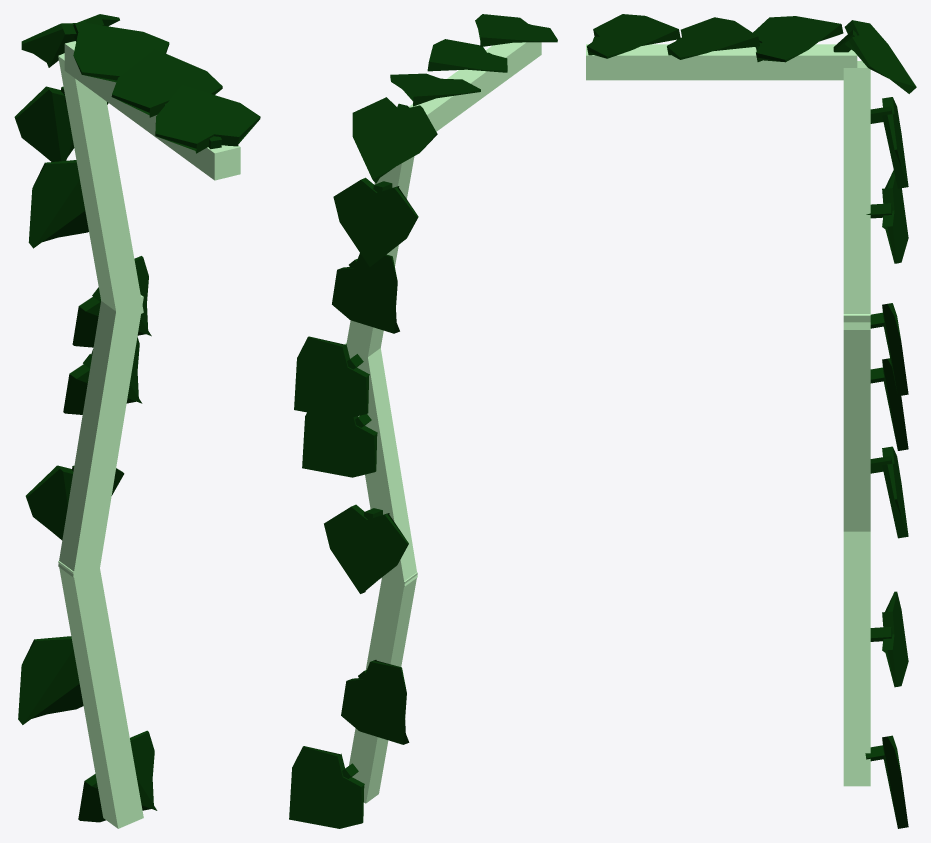
Rendered from VineLeaf.glb.
3 renders of one model, left to right at view 1: azimuth 30°, elevation 25°; view 2: azimuth 150°, elevation 25°; view 3: azimuth 270°, elevation 25°, orthographic. The views are drawn at different scales.
Visible parts, largest first — view 1: Cube, Cube.001, Cube.010, Cube.002, Cube.003, Cube.004, Cube.006, Cube.009, Cube.011, Cube.007, Cube.005, Cube.008; view 2: Cube, Cube.011, Cube.007, Cube.006, Cube.009, Cube.005, Cube.010, Cube.008, Cube.002, Cube.003, Cube.001, Cube.004; view 3: Cube, Cube.004, Cube.001, Cube.003, Cube.005, Cube.010, Cube.002, Cube.006, Cube.009, Cube.011, Cube.007, Cube.008.
Boxes of the visible parts, left/top/right/bottom form: Cube: left=58, top=41, right=240, bottom=828; Cube.001: left=155, top=85, right=260, bottom=153; Cube.010: left=18, top=636, right=83, bottom=724; Cube.002: left=28, top=160, right=88, bottom=248; Cube.003: left=111, top=49, right=222, bottom=117; Cube.004: left=73, top=22, right=169, bottom=82; Cube.006: left=14, top=86, right=108, bottom=161; Cube.009: left=25, top=465, right=124, bottom=540; Cube.011: left=78, top=730, right=157, bottom=822; Cube.007: left=72, top=256, right=151, bottom=347; Cube.005: left=21, top=14, right=119, bottom=67; Cube.008: left=63, top=336, right=142, bottom=414; Cube: left=344, top=42, right=541, bottom=803; Cube.011: left=289, top=746, right=364, bottom=828; Cube.007: left=294, top=336, right=369, bottom=419; Cube.006: left=333, top=177, right=418, bottom=267; Cube.009: left=324, top=504, right=408, bottom=593; Cube.005: left=352, top=97, right=437, bottom=183; Cube.010: left=341, top=660, right=409, bottom=744; Cube.008: left=302, top=412, right=377, bottom=477; Cube.002: left=332, top=253, right=399, bottom=333; Cube.003: left=427, top=39, right=507, bottom=72; Cube.001: left=475, top=14, right=557, bottom=46; Cube.004: left=390, top=73, right=480, bottom=106; Cube: left=586, top=44, right=870, bottom=786; Cube.004: left=753, top=16, right=843, bottom=62; Cube.001: left=587, top=14, right=680, bottom=58; Cube.003: left=667, top=17, right=759, bottom=59; Cube.005: left=833, top=20, right=916, bottom=93; Cube.010: left=870, top=591, right=908, bottom=687; Cube.002: left=866, top=170, right=908, bottom=263; Cube.006: left=870, top=97, right=908, bottom=188; Cube.009: left=870, top=446, right=908, bottom=538; Cube.011: left=865, top=735, right=908, bottom=828; Cube.007: left=870, top=303, right=908, bottom=396; Cube.008: left=870, top=358, right=908, bottom=450.
Size of the model in its own units: 0.1487 by 0.7705 by 0.3051.
